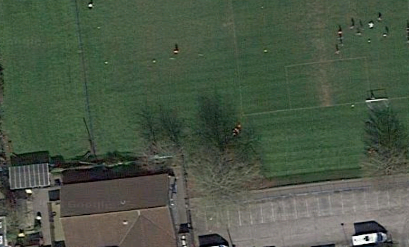tree: (174, 140, 269, 223), (352, 138, 409, 193)
